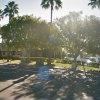Tree: (4, 2, 71, 61)
